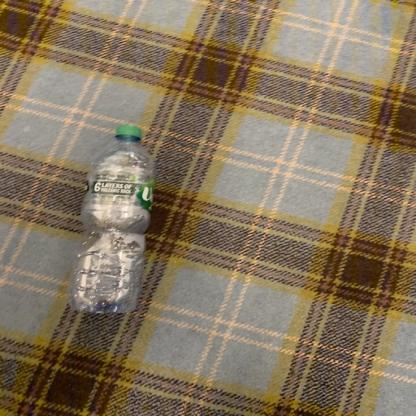trash: (68, 126, 158, 315)
